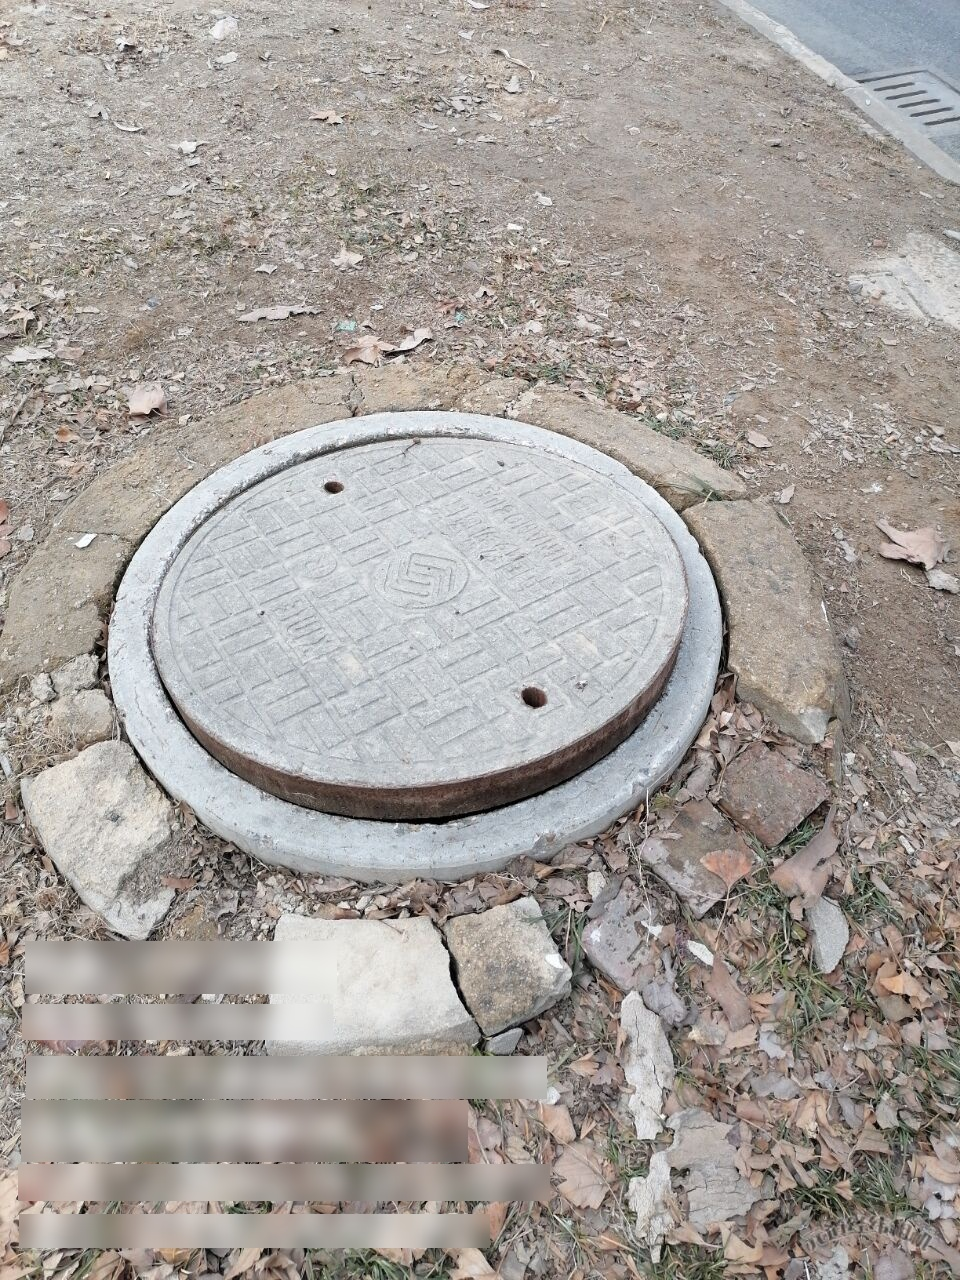uncovered: (105, 407, 729, 880)
